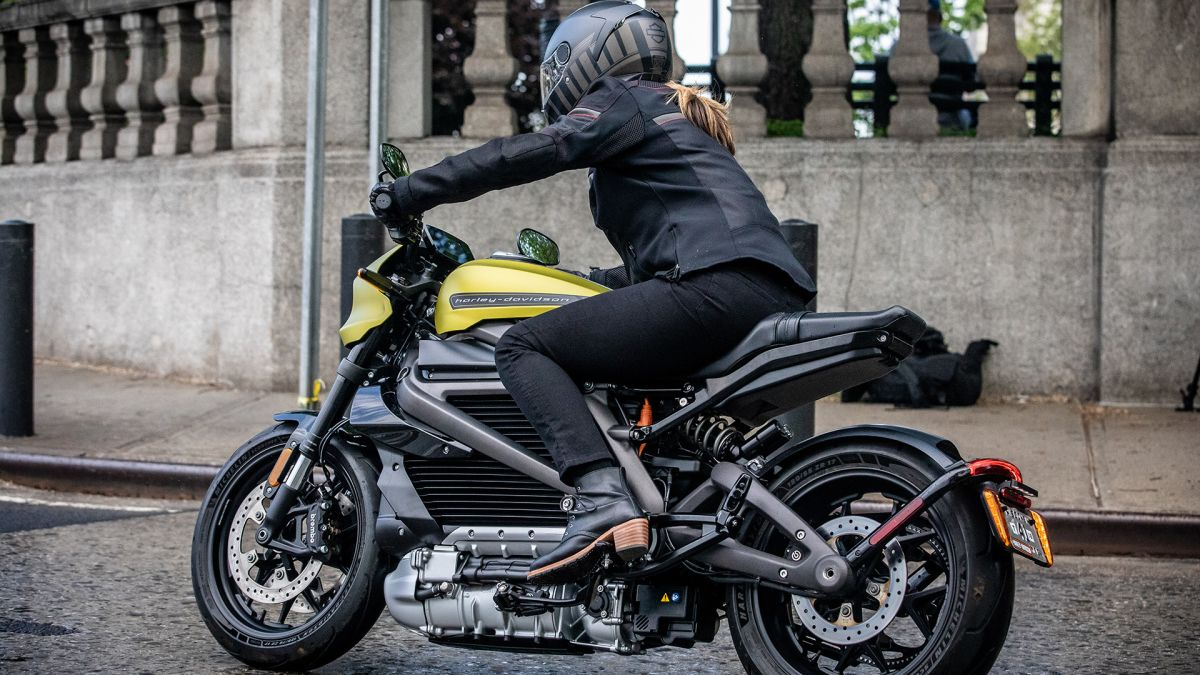motorcycle: (187, 142, 1055, 675)
